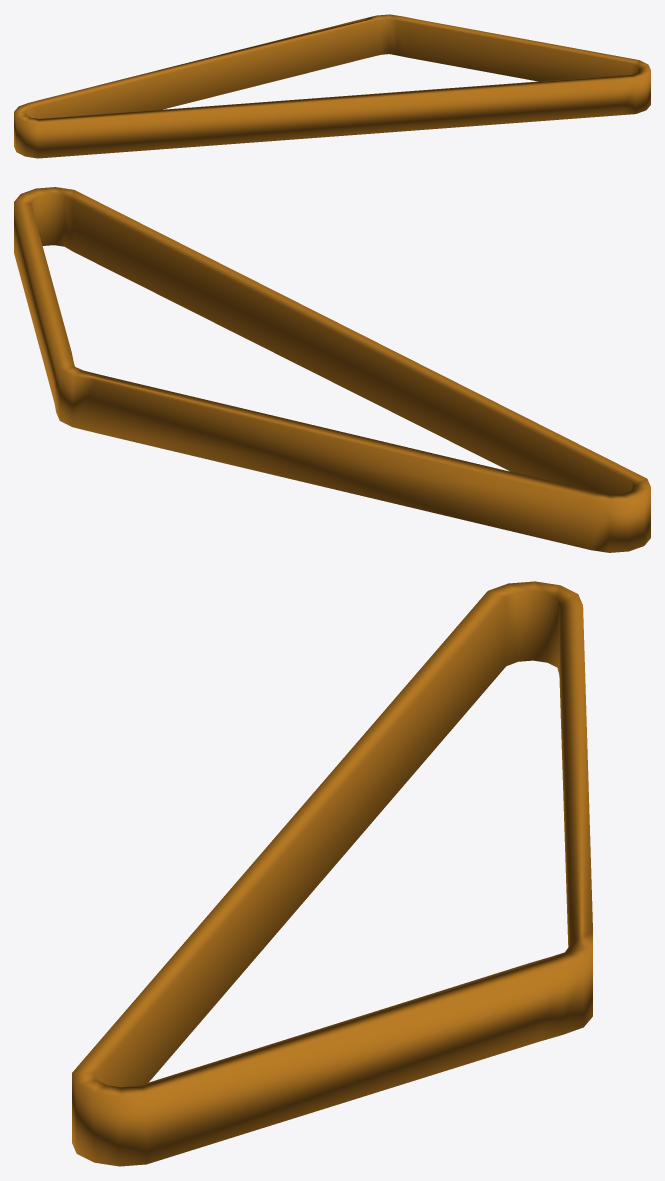
File: Slingshot_Eject_Ball.fbx
3 renders of one model, top to bottom at view 1: azimuth 30°, elevation 25°; view 2: azimuth 150°, elevation 25°; view 3: azimuth 270°, elevation 25°, orthographic. The views are drawn at different scales.
Visible parts, largest first — view 1: Slingshot_Eject_Ball; view 2: Slingshot_Eject_Ball; view 3: Slingshot_Eject_Ball.
Boxes of the visible parts, left/top/right/bottom form: Slingshot_Eject_Ball: left=14, top=14, right=650, bottom=158; Slingshot_Eject_Ball: left=14, top=187, right=650, bottom=552; Slingshot_Eject_Ball: left=72, top=581, right=592, bottom=1166.
Size of the model in its own units: 10.32 by 0.6483 by 4.41.
